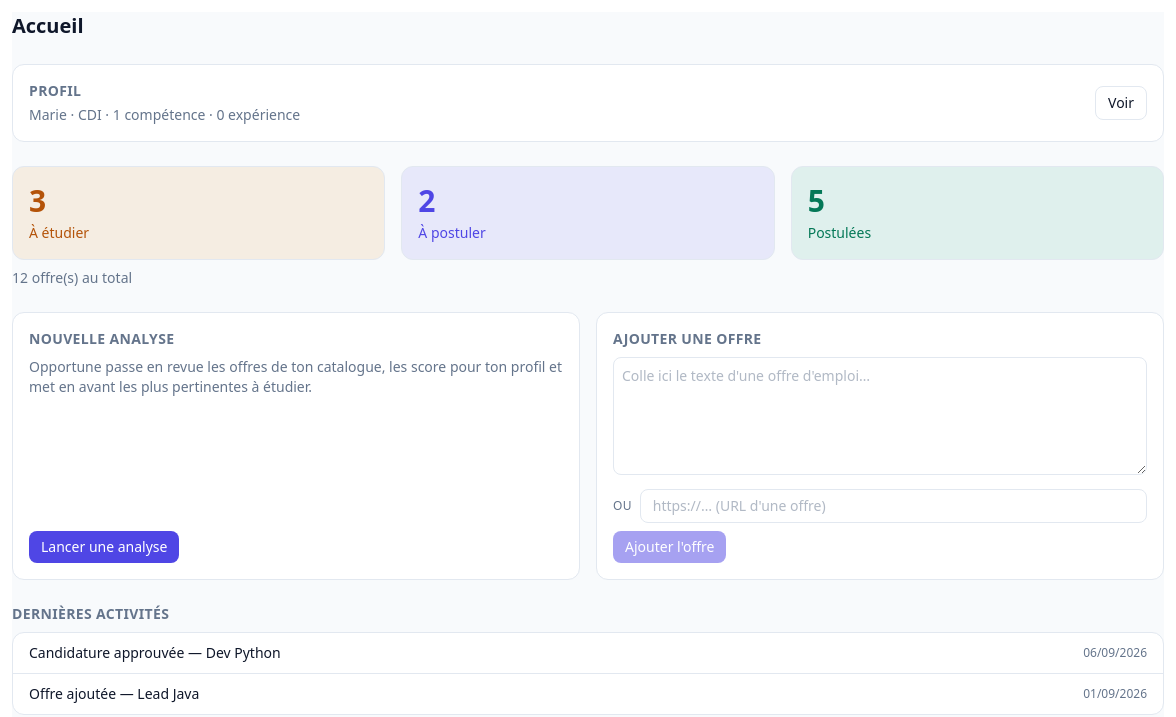
Test: CockpitPage (OPP-164) › ajoute une offre en collant son texte (POST /offers) depuis le cockpit
The width and height of the screenshot is (1176, 717).
Type "Nous recrutons un Data Engineer" into the text box named "Texte de l'offre" at coordinates (880, 416), box [613,357,1147,475]
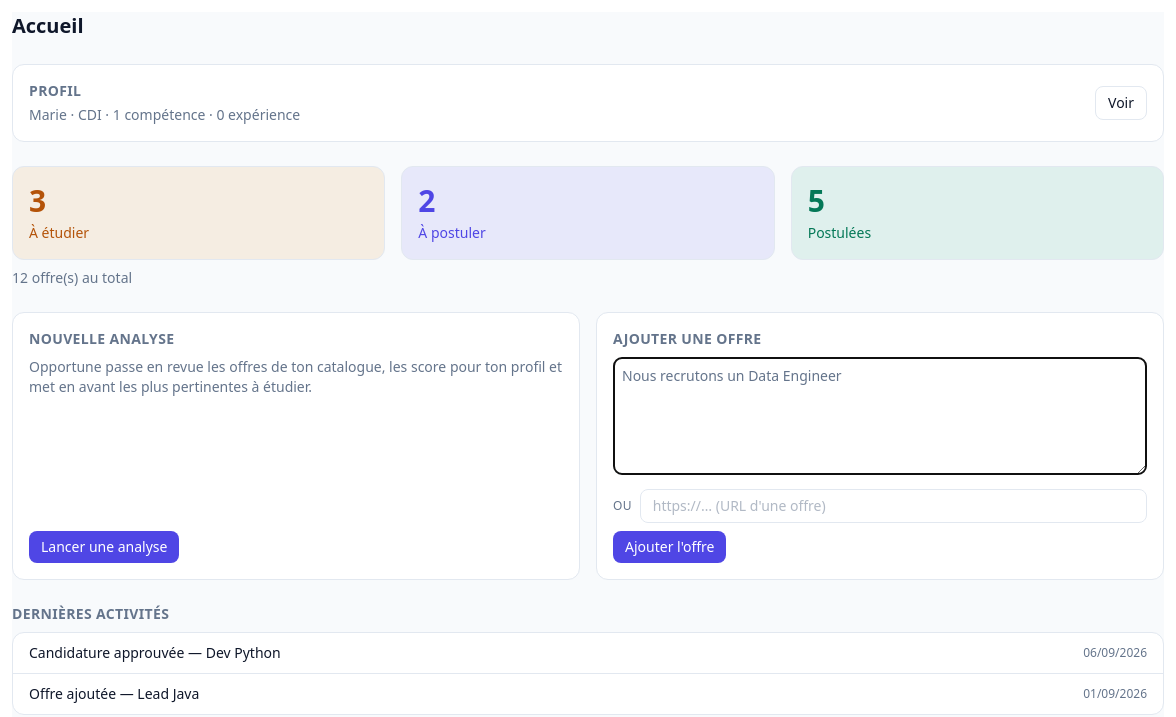
Click the button "Ajouter l'offre" at coordinates (670, 547), box [613,531,726,563]
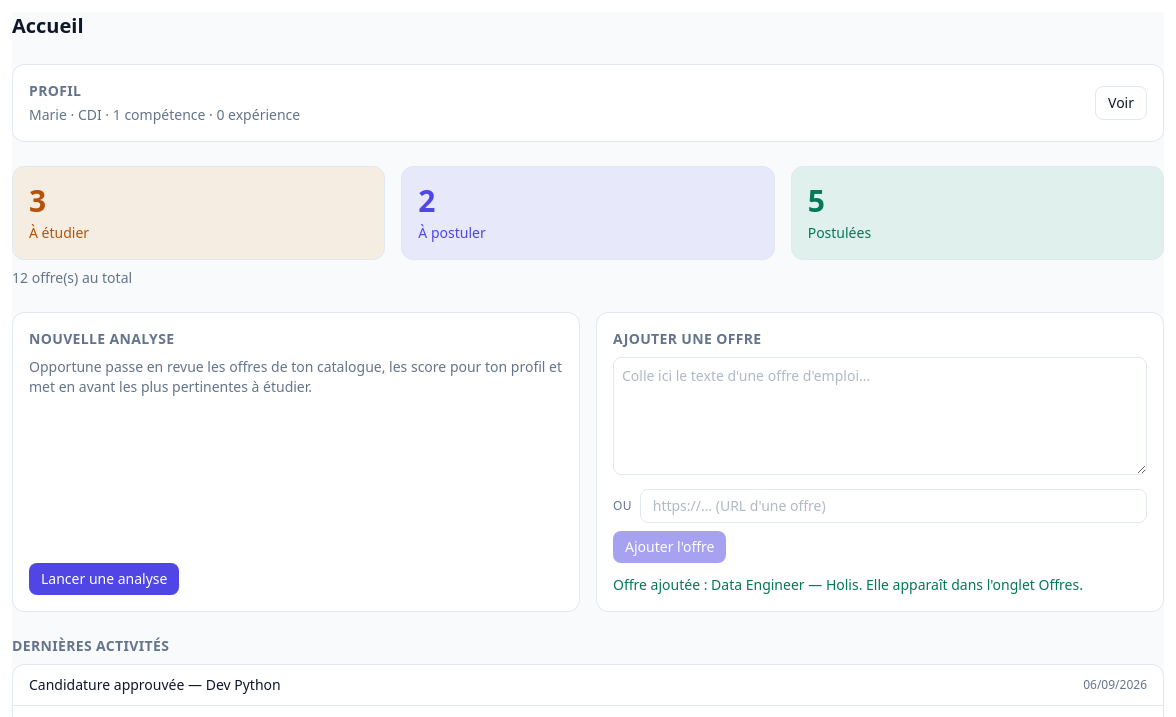
Now the text "Offre ajoutée : Data Engineer" is shown, box [613,575,1083,595]
